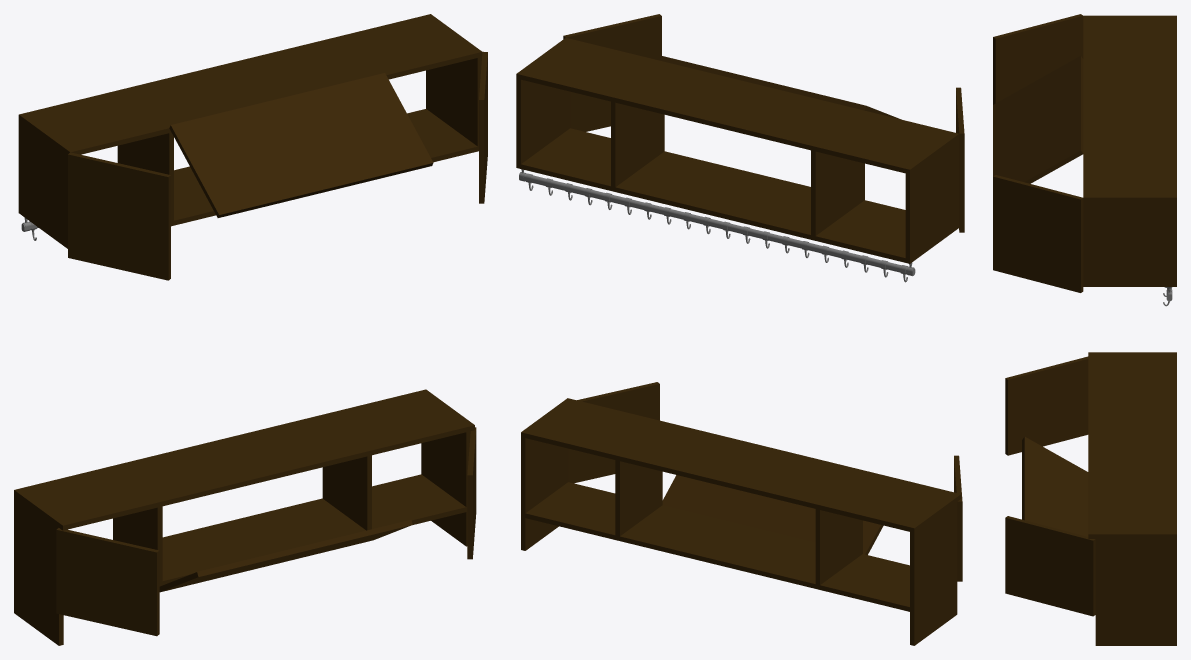
The model's file is porteManteau.fbx.
The picture shows the model from 3 angles, left to right: view 1: azimuth 30°, elevation 25°; view 2: azimuth 150°, elevation 25°; view 3: azimuth 270°, elevation 25°; orthographic projection. The views are drawn at different scales.
Parts seen in each view (by area): view 1: Top_door_middle, SC_top, T_top, SC_bottom, T_door_left, SC_door_left, SC_side_left, T_side_left, T_bottom, T_side_right, SC_side_right, SC_door_middle (+5 smaller); view 2: T_top, SC_top, T_bottom, SC_bottom, SC_door_middle, SC_side_left, T_side_left, T_door_right, T_side_right, SC_side_right, T_support_left, T_support_right (+8 smaller); view 3: T_top, SC_top, T_door_right, SC_side_right, Top_door_middle, T_side_right, SC_door_right, SC_door_left, SC_door_middle, T_door_left, T_bottom.
Part boxes in pixels (x1=…): Top_door_middle: x1=169, y1=73, x2=433, y2=217; SC_top: x1=14, y1=389, x2=474, y2=530; T_top: x1=18, y1=14, x2=482, y2=154; SC_bottom: x1=159, y1=474, x2=466, y2=586; T_door_left: x1=68, y1=152, x2=170, y2=280; SC_door_left: x1=56, y1=528, x2=159, y2=636; SC_side_left: x1=14, y1=495, x2=63, y2=645; T_side_left: x1=18, y1=120, x2=67, y2=243; T_bottom: x1=18, y1=109, x2=478, y2=248; T_side_right: x1=426, y1=57, x2=481, y2=146; SC_side_right: x1=421, y1=431, x2=470, y2=546; SC_door_middle: x1=159, y1=520, x2=412, y2=592; T_top: x1=516, y1=38, x2=959, y2=174; SC_top: x1=521, y1=398, x2=961, y2=532; T_bottom: x1=516, y1=128, x2=959, y2=263; SC_bottom: x1=525, y1=482, x2=909, y2=611; SC_door_middle: x1=662, y1=475, x2=883, y2=554; SC_side_left: x1=910, y1=502, x2=957, y2=645; T_side_left: x1=905, y1=139, x2=959, y2=258; T_door_right: x1=563, y1=14, x2=661, y2=131; T_side_right: x1=516, y1=78, x2=570, y2=164; SC_side_right: x1=521, y1=437, x2=568, y2=550; T_support_left: x1=811, y1=150, x2=864, y2=235; T_support_right: x1=611, y1=101, x2=664, y2=187; T_top: x1=1083, y1=15, x2=1176, y2=202; SC_top: x1=1088, y1=352, x2=1176, y2=538; T_door_right: x1=993, y1=175, x2=1083, y2=292; SC_side_right: x1=1095, y1=539, x2=1176, y2=645; Top_door_middle: x1=993, y1=56, x2=1083, y2=183; T_side_right: x1=1083, y1=202, x2=1176, y2=282; SC_door_right: x1=1005, y1=516, x2=1095, y2=616; SC_door_left: x1=1005, y1=356, x2=1088, y2=455; SC_door_middle: x1=1022, y1=436, x2=1088, y2=536; T_door_left: x1=993, y1=14, x2=1083, y2=104; T_bottom: x1=1083, y1=282, x2=1176, y2=286.
Size of the model in its own units: 180 by 204 by 74.75.
